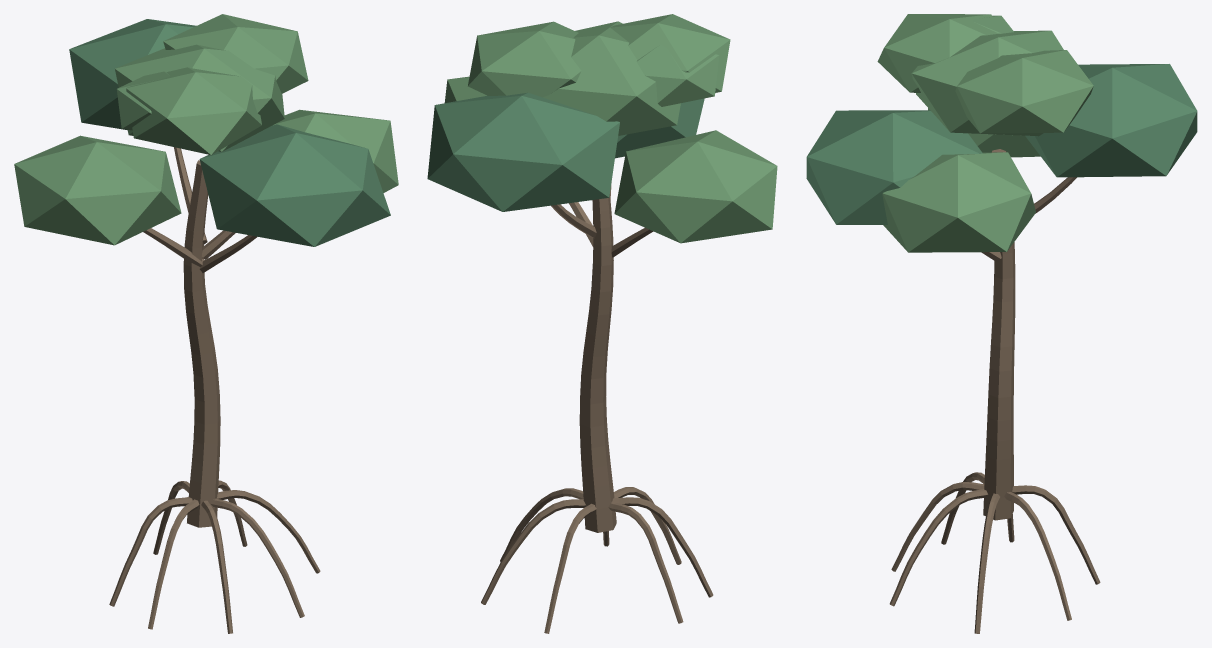
The model's file is SM_Mangrove_B.fbx.
3 renders of one model, left to right at view 1: azimuth 30°, elevation 25°; view 2: azimuth 150°, elevation 25°; view 3: azimuth 270°, elevation 25°, orthographic. The views are drawn at different scales.
Parts seen in each view (by area): view 1: SM_Mangrove_B; view 2: SM_Mangrove_B; view 3: SM_Mangrove_B.
Boxes of the visible parts, x1,y1,x2,y2 form: SM_Mangrove_B: [14, 14, 398, 633]; SM_Mangrove_B: [427, 14, 777, 633]; SM_Mangrove_B: [806, 14, 1197, 633].
Bounding box in the file's own units: 7.84 × 11.99 × 7.75.
